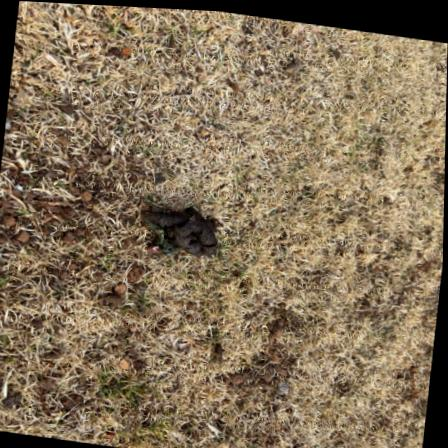dog-poop: (143, 196, 229, 272)
